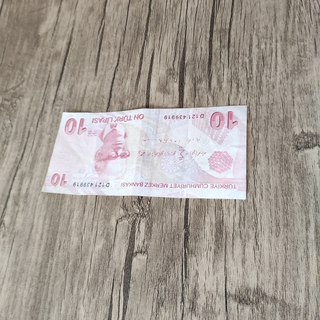10TLBack: (40, 104, 247, 201)
